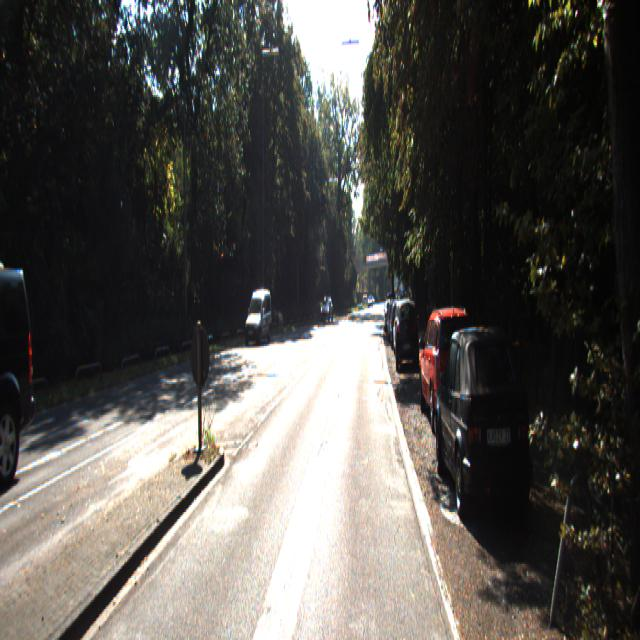Car: (435, 323, 539, 538), (0, 262, 46, 490), (417, 302, 479, 438), (243, 285, 273, 346), (396, 298, 418, 371), (394, 302, 416, 361), (391, 304, 407, 353)
